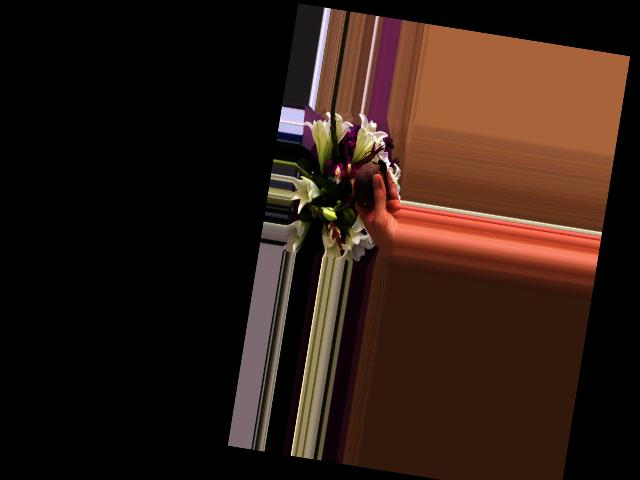beet: (327, 145, 390, 218)
